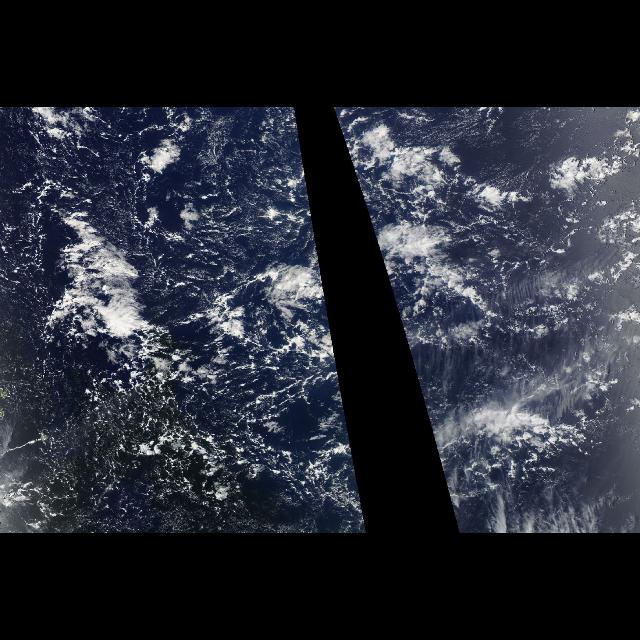Gravel: (14, 112, 368, 532)
Sugar: (194, 128, 300, 274)
